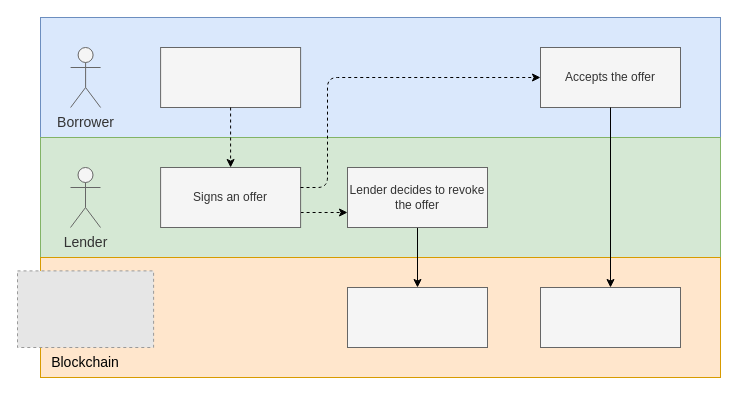
Image size: 738x395. Some labels were removed from this diagram. Grey dashed boxes stand in for pictures. The shapes that lost their labels are listed below. From the top down, each one's box as (x1, y1, x2, y2) in pixels, then its label:
(160, 46, 301, 108): Signals desire to take a loan
(346, 286, 488, 348): revokeOffer
(540, 286, 680, 348): createDeed
